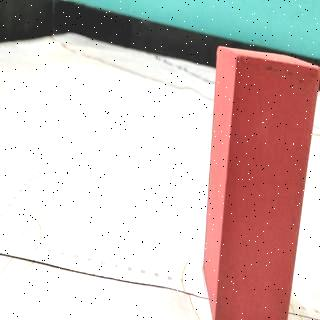redbox: (215, 47, 296, 320)
